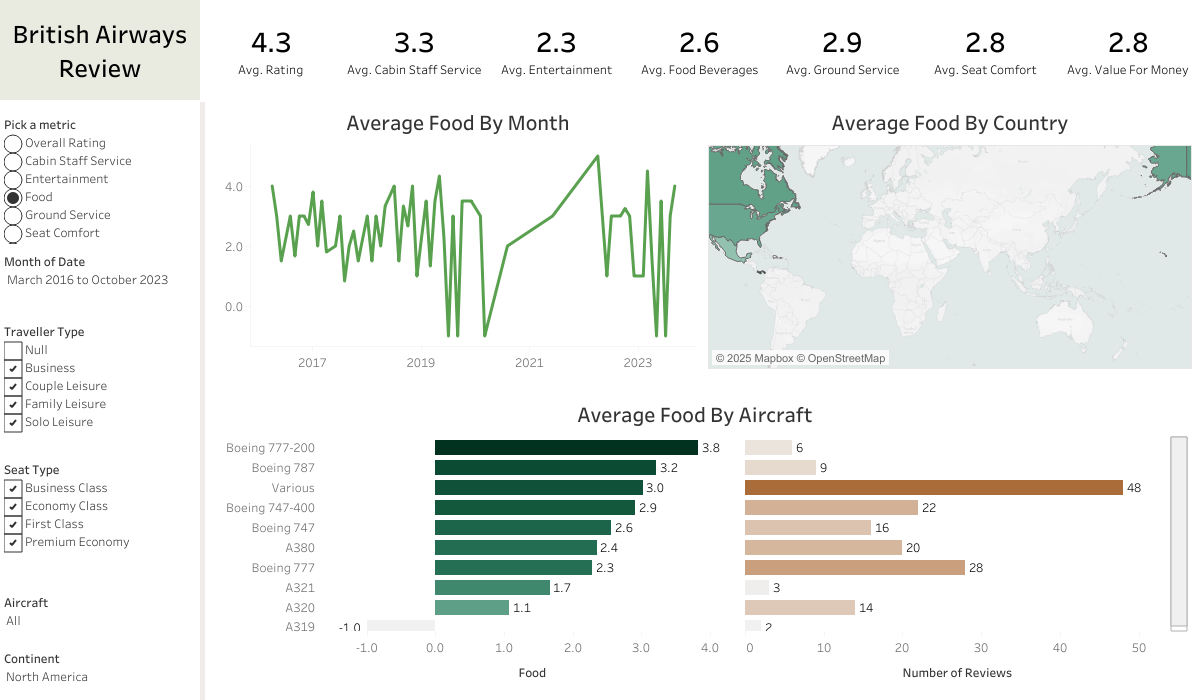

The dashboard page shown, as its layout file describes it:
{"tool":"tableau","page":{"name":"Dashboard 1","canvas":[1200,700],"ordinal":0},"visuals":[{"type":"text","box":[0,0,200,100]},{"type":"worksheet","title":"Summary","mark":"Automatic","box":[200,0,1000,100]},{"type":"worksheet","title":"Month","mark":"Automatic","rows":["Calculation_14144173944352807"],"cols":["date"],"box":[220,102,476,274]},{"type":"worksheet","title":"Map","mark":"Automatic","box":[708,102,484,267]},{"type":"parameter","param":"[Parameters].[Parameter 1]","box":[0,110,200,137.5]},{"type":"filter","title":"Map","param":"[federated.06lnv9w0m5s5ao17h76pf13iwhs3].[tmn:date:qk]","box":[0,247.5,200,70]},{"type":"filter","title":"Map","param":"[federated.06lnv9w0m5s5ao17h76pf13iwhs3].[none:traveller_type:nk]","box":[0,317.5,200,137.5]},{"type":"worksheet","title":"Aircraft","mark":"Automatic","cols":["Calculation_14144173944352807","ba_reviews.csv_14613B96745B4210B494E1DC5F613766"],"box":[220,394,968,294]},{"type":"filter","title":"Map","param":"[federated.06lnv9w0m5s5ao17h76pf13iwhs3].[none:seat_type:nk]","box":[0,455,200,133]},{"type":"filter","title":"Map","param":"[federated.06lnv9w0m5s5ao17h76pf13iwhs3].[none:aircraft:nk]","box":[0,588,200,56]},{"type":"filter","title":"Map","param":"[federated.06lnv9w0m5s5ao17h76pf13iwhs3].[none:Continent:nk]","box":[0,644,200,56]}]}

Visuals, with their boxes in screenshot pixels (x1, y1, x2, y2), scaled from the page's 1200x700 canvas onto the 1200x700 screenshot:
text: (x1=0, y1=0, x2=200, y2=100)
"Summary" worksheet: (x1=200, y1=0, x2=1199, y2=100)
"Month" worksheet: (x1=220, y1=102, x2=696, y2=376)
"Map" worksheet: (x1=708, y1=102, x2=1192, y2=369)
parameter: (x1=0, y1=110, x2=200, y2=248)
"Map" filter: (x1=0, y1=248, x2=200, y2=318)
"Map" filter: (x1=0, y1=318, x2=200, y2=455)
"Aircraft" worksheet: (x1=220, y1=394, x2=1188, y2=688)
"Map" filter: (x1=0, y1=455, x2=200, y2=588)
"Map" filter: (x1=0, y1=588, x2=200, y2=644)
"Map" filter: (x1=0, y1=644, x2=200, y2=699)
